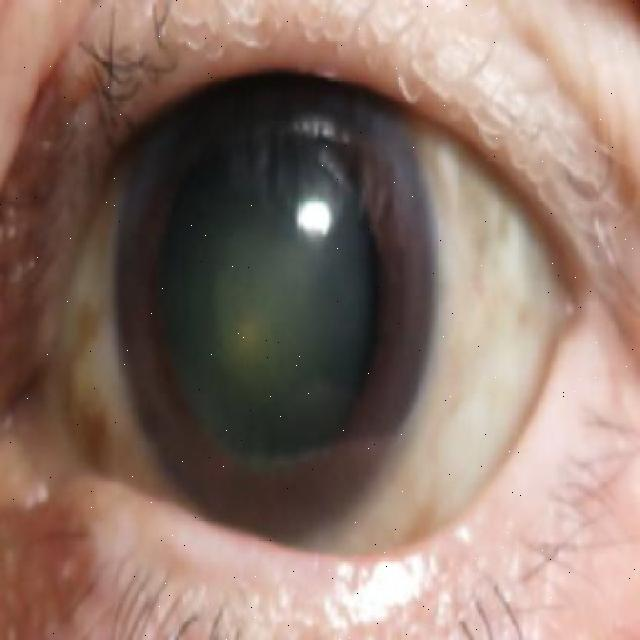Cataract: (112, 43, 440, 556)
